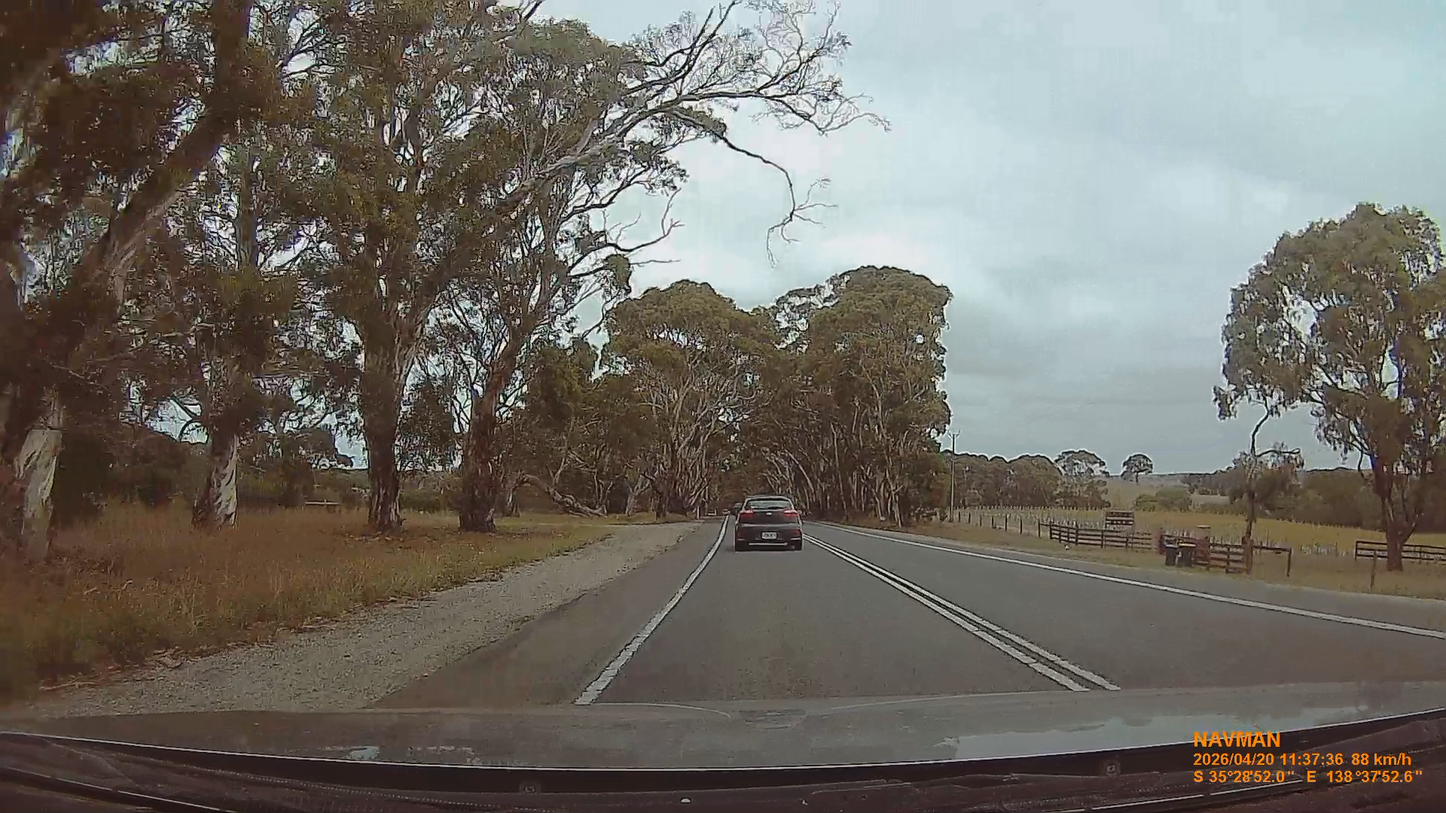fences: (1155, 529, 1285, 572), (1051, 513, 1139, 548)
